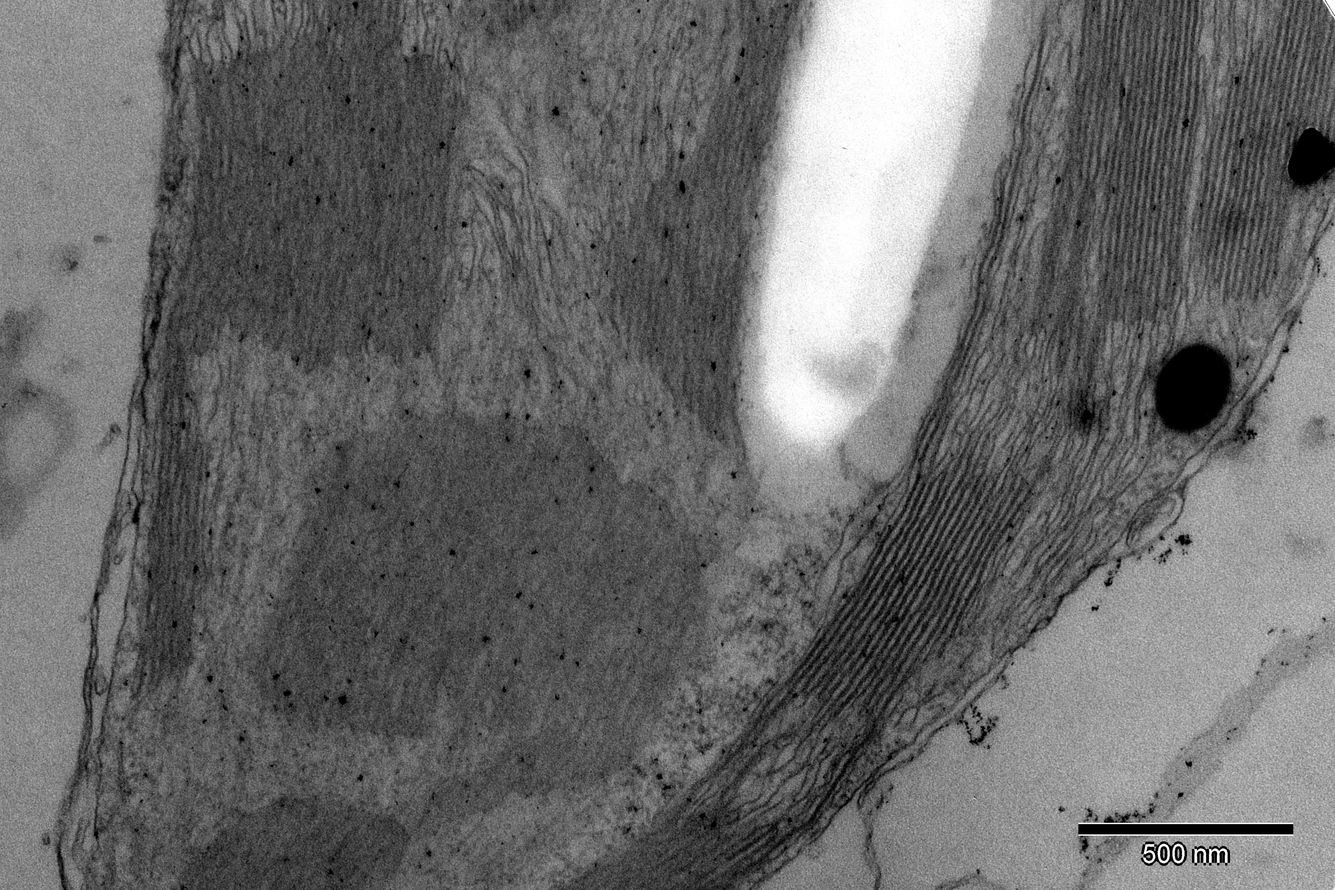granum: (242, 397, 724, 836), (156, 0, 474, 374), (594, 0, 805, 450), (775, 420, 1044, 759), (1026, 0, 1209, 340), (1186, 0, 1335, 304), (904, 156, 1036, 458), (548, 766, 803, 890), (127, 393, 215, 698), (160, 786, 421, 886), (483, 0, 548, 17)
